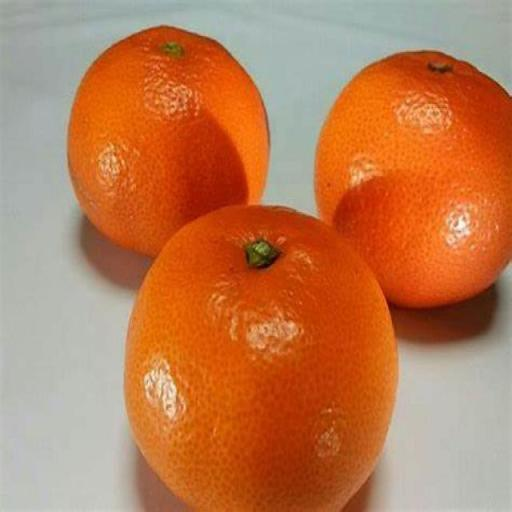fruit: (125, 207, 397, 511), (316, 52, 511, 306), (68, 27, 268, 255)
